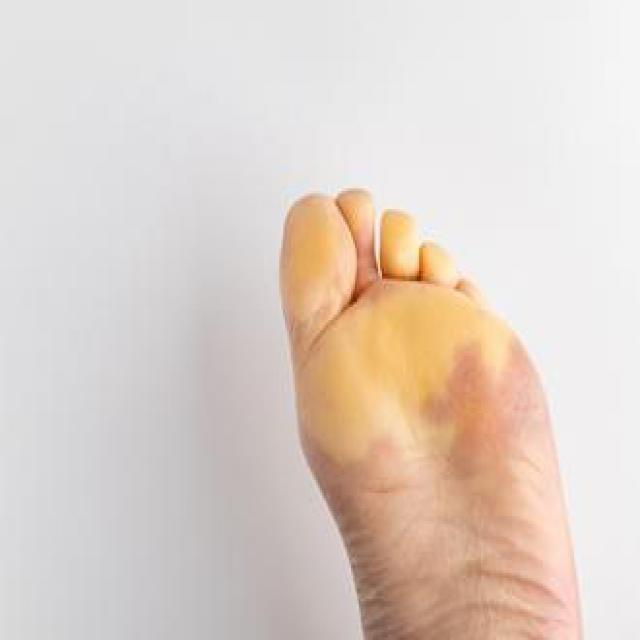raynauds: (250, 184, 537, 458)
